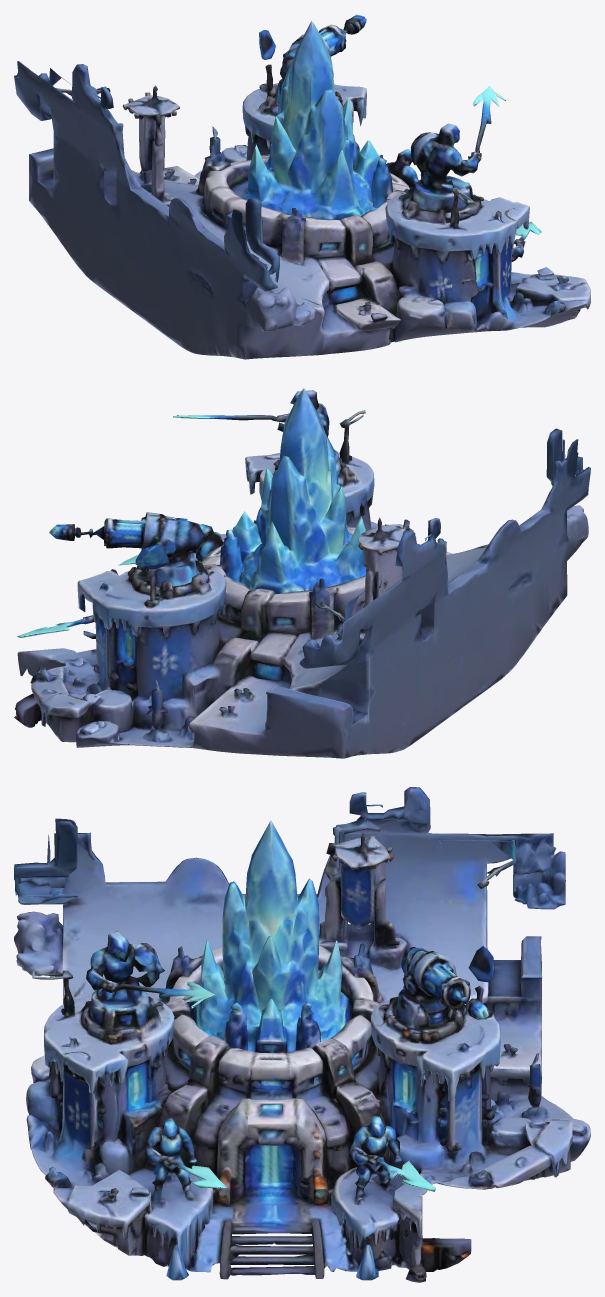
Rendered from snow-base-2.glb.
3 views of the same model, one above another, from view 1: azimuth 30°, elevation 25°; view 2: azimuth 150°, elevation 25°; view 3: azimuth 270°, elevation 25° (orthographic). The views are drawn at different scales.
Visible parts, largest first — view 1: tripo_node_6b362026-b77f-49c4-97b6-ea179d74c3ad; view 2: tripo_node_6b362026-b77f-49c4-97b6-ea179d74c3ad; view 3: tripo_node_6b362026-b77f-49c4-97b6-ea179d74c3ad.
Part boxes in pixels (x1=…): tripo_node_6b362026-b77f-49c4-97b6-ea179d74c3ad: x1=14, y1=14, x2=590, y2=359; tripo_node_6b362026-b77f-49c4-97b6-ea179d74c3ad: x1=14, y1=388, x2=590, y2=758; tripo_node_6b362026-b77f-49c4-97b6-ea179d74c3ad: x1=14, y1=787, x2=590, y2=1282.
Size of the model in its own units: 0.8424 by 0.6685 by 1.
1 material, 1 textured.
